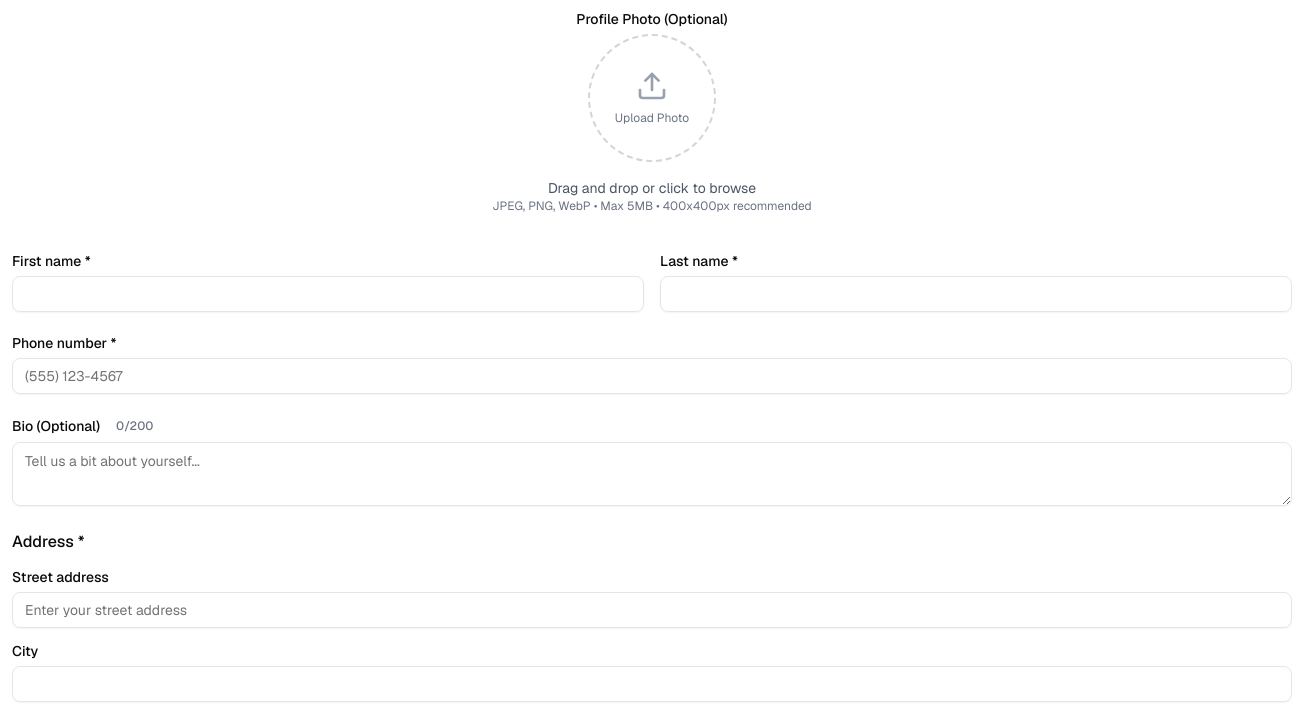
Test: OnboardingForm › User interaction › should update bio character counter
Type "Hello" into the text box labelled "Bio (Optional) 0/200" at (652, 474), box [12, 442, 1292, 506]
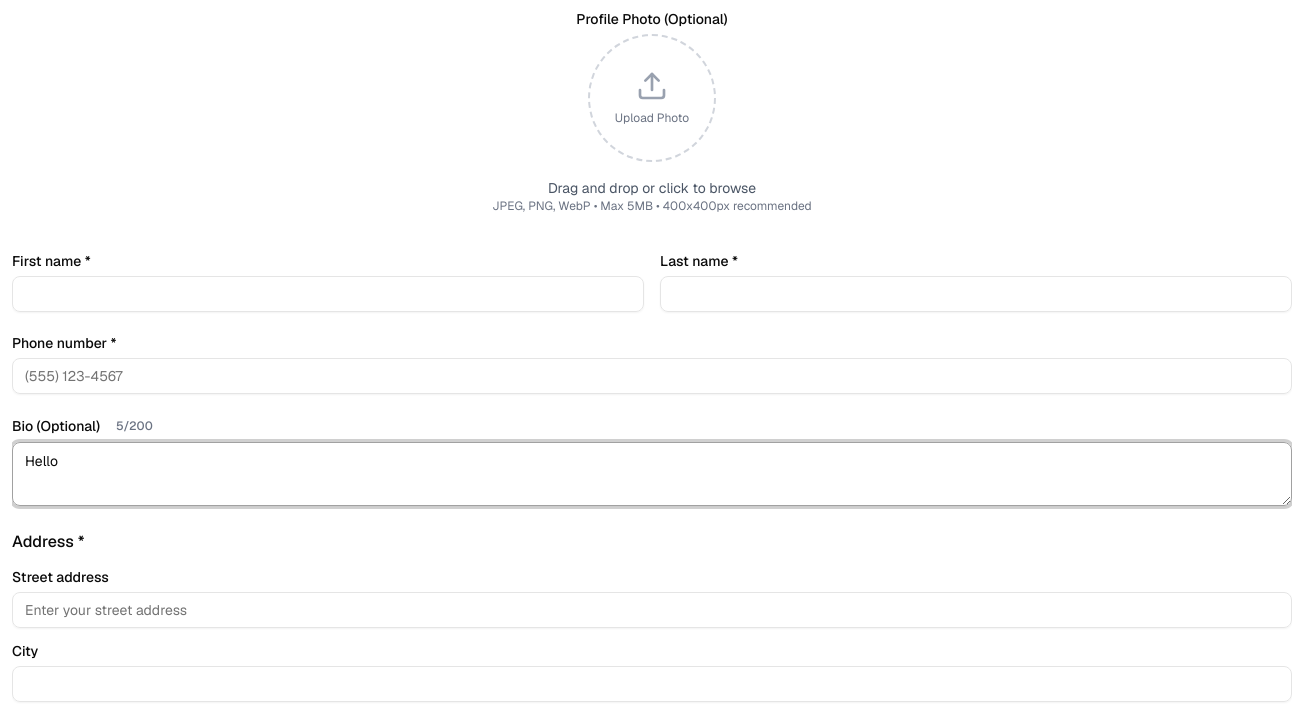
expect the text "5/200" is shown: met, box [116, 418, 153, 434]
